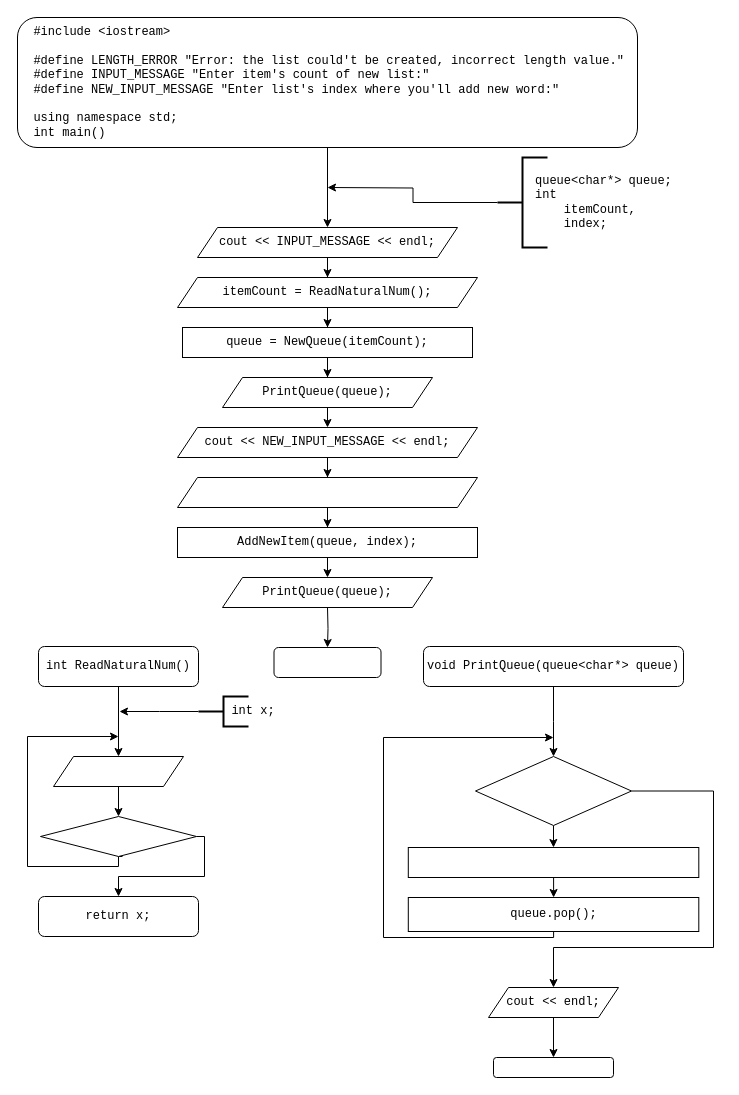
This 739x1095 diagram has some shape labels left out. Here are the shapes that lost their labels. From the top down, the centre of each, then its label:
(x=327, y=492): index = ReadNaturalNum();
(x=327, y=662): return 0;
(x=118, y=771): cin >> x;
(x=553, y=791): while ( !queue.empty() )
(x=118, y=836): while (x <= 0)
(x=553, y=862): cout << queue.front() << " ";
